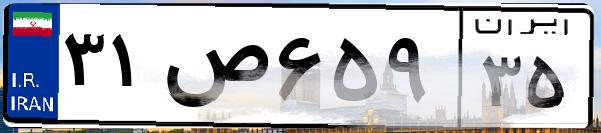1: (110, 28, 158, 98)
3: (57, 26, 110, 100), (475, 38, 525, 113)
5: (330, 28, 385, 110), (525, 38, 570, 115)
6: (270, 28, 330, 110)
9: (385, 28, 445, 110)
ص: (158, 20, 270, 120)
